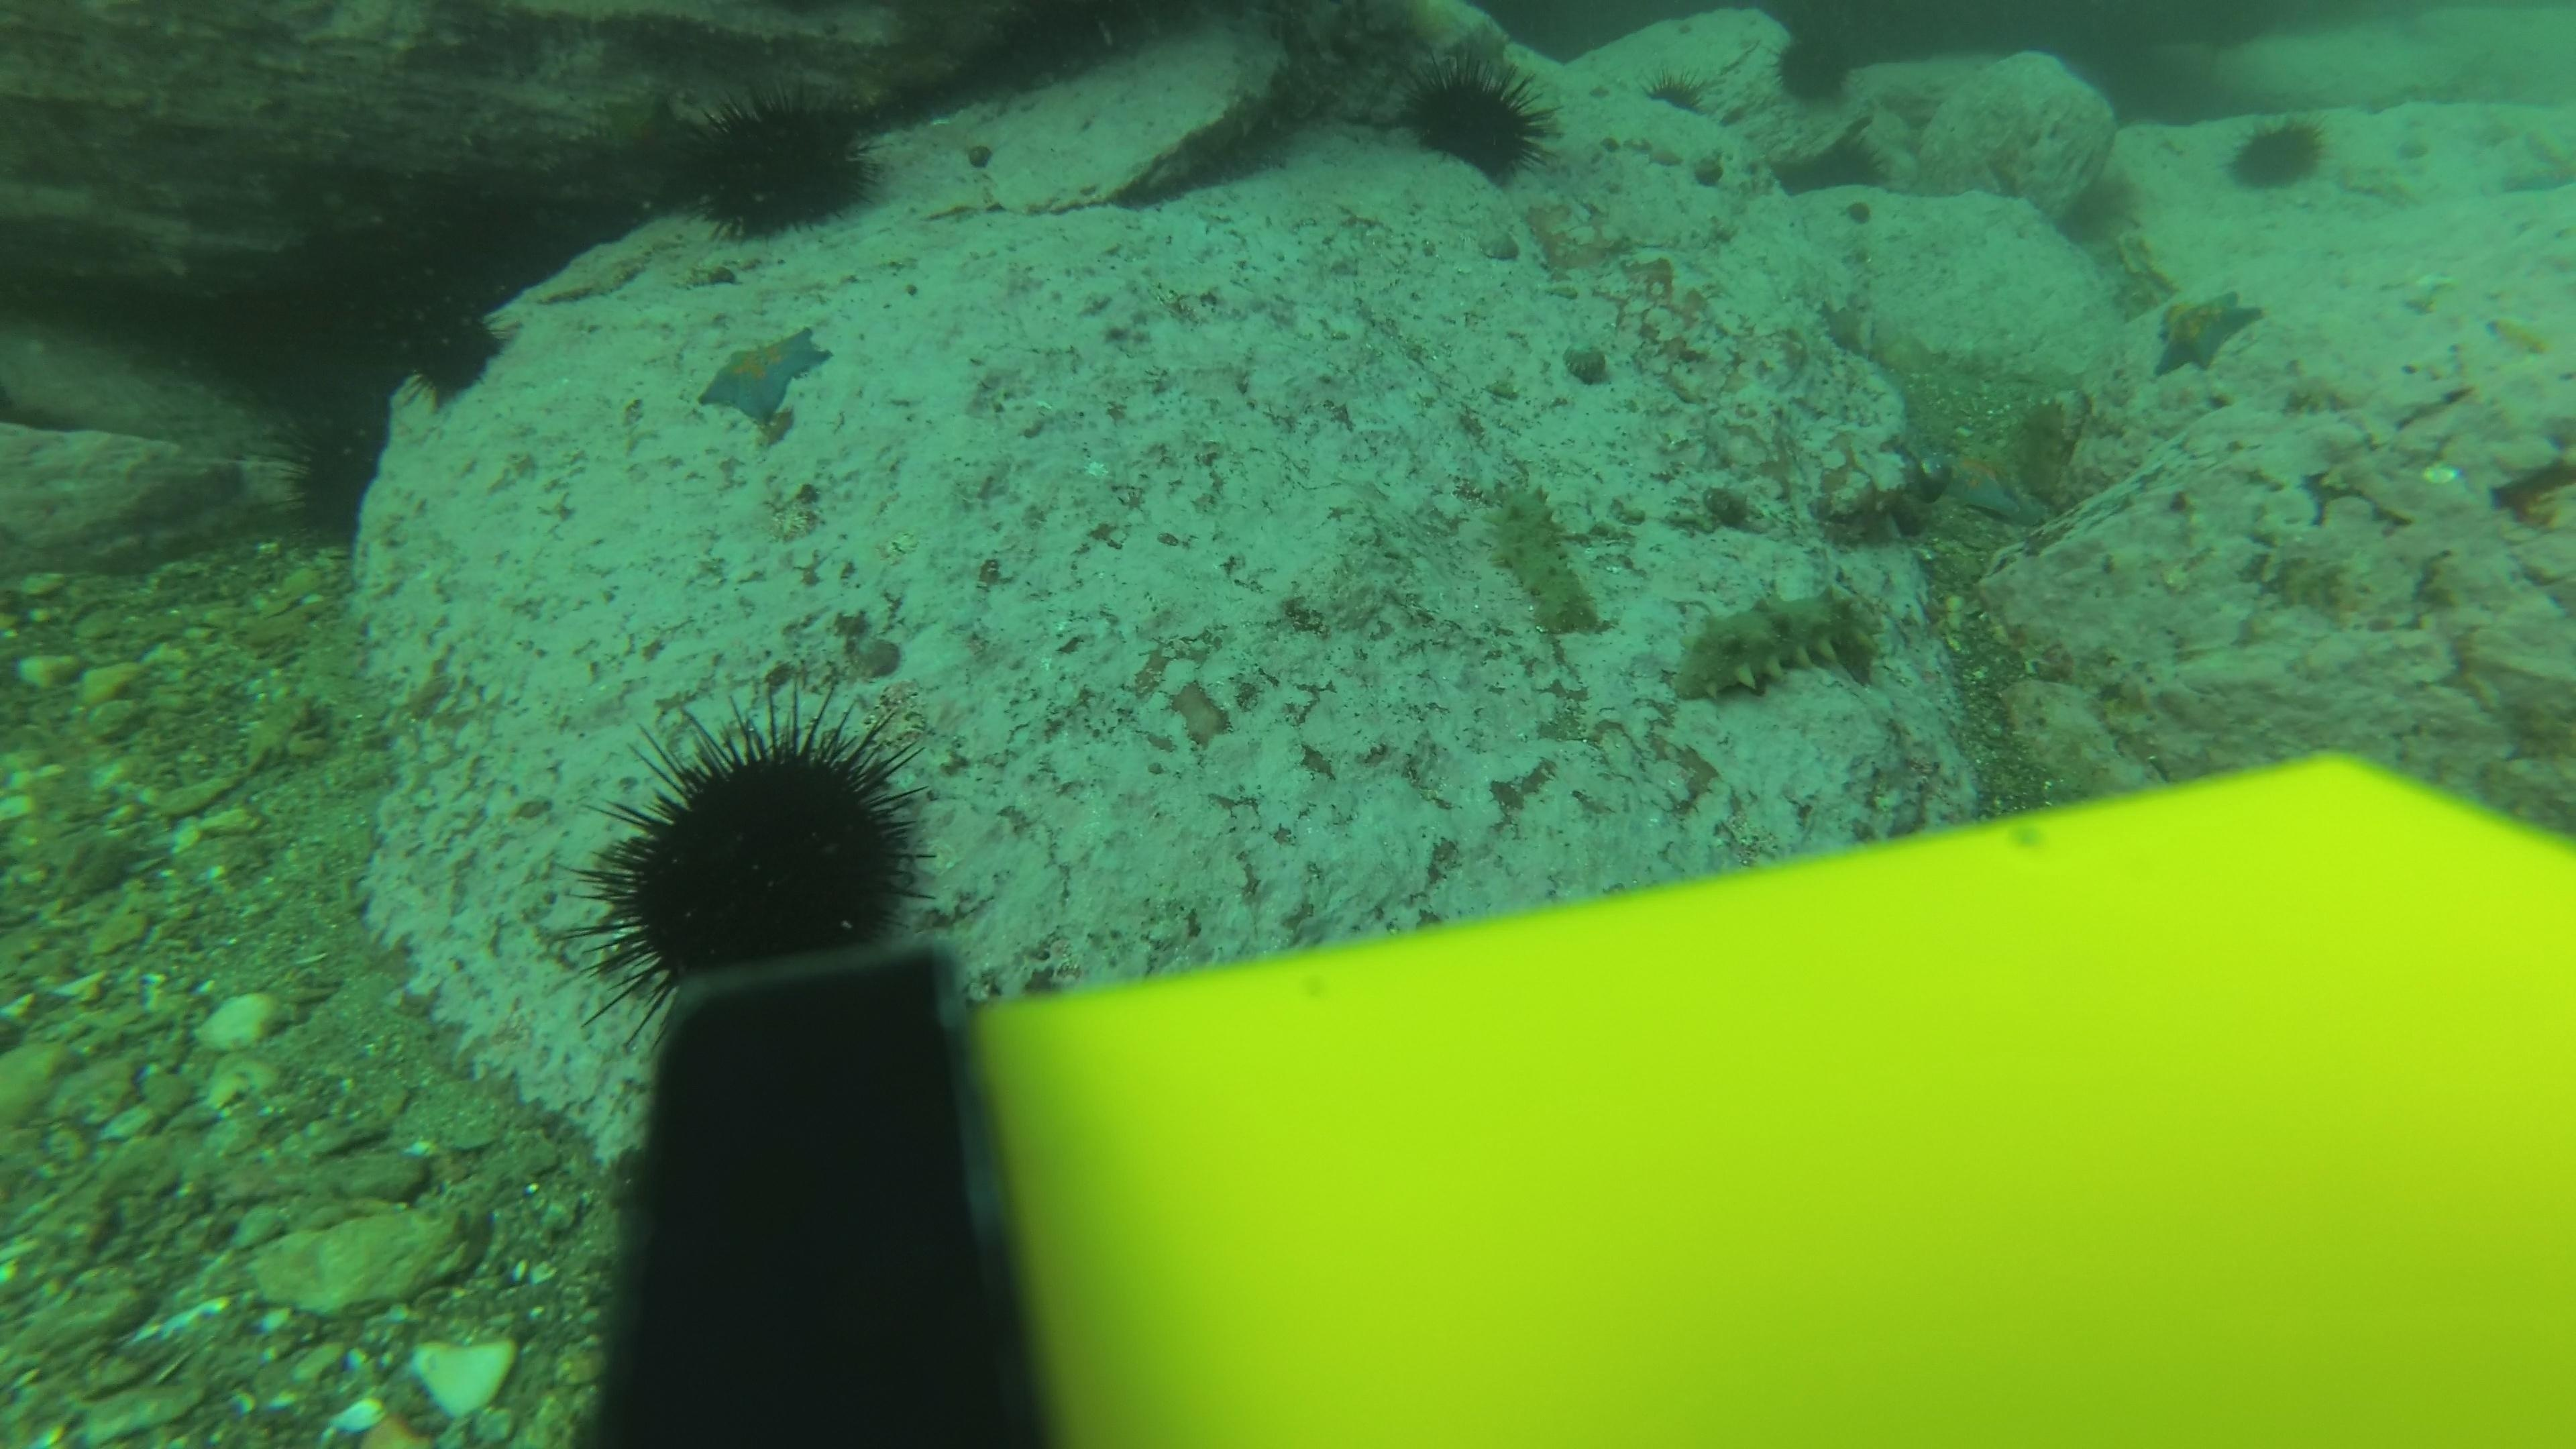echinus: (577, 692, 938, 1001), (672, 83, 886, 244), (271, 391, 405, 552), (1394, 55, 1555, 186), (389, 278, 515, 407), (2220, 111, 2332, 198), (1766, 25, 1861, 111), (1805, 111, 1898, 198), (1626, 48, 1721, 133)
holothurian: (1665, 577, 1884, 709), (1476, 469, 1610, 642), (1992, 393, 2084, 506)
starfish: (690, 322, 837, 430), (2144, 285, 2266, 382), (1925, 437, 2056, 527), (591, 87, 699, 170), (1815, 292, 1879, 361)
